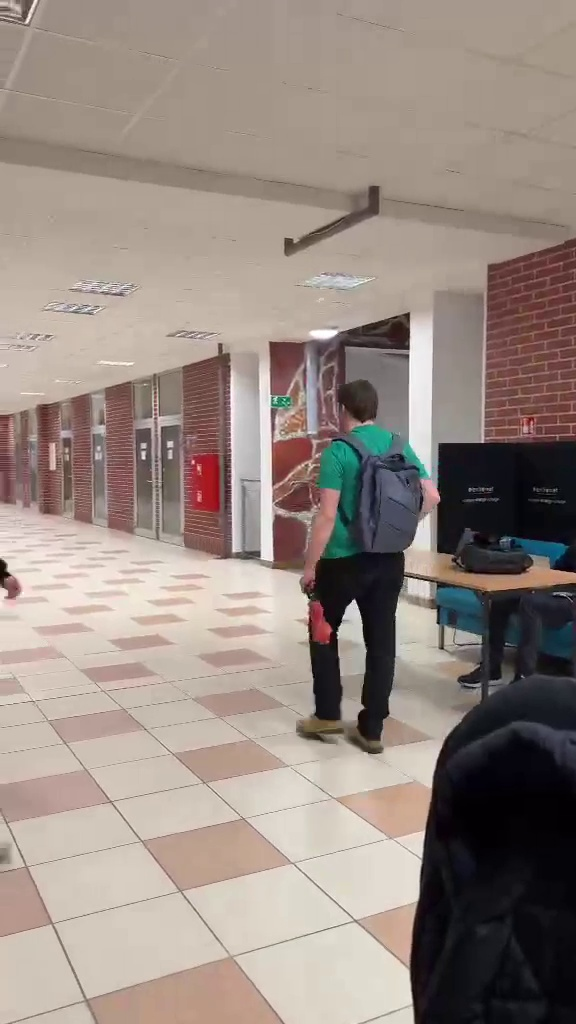no vest: (307, 388, 443, 744)
